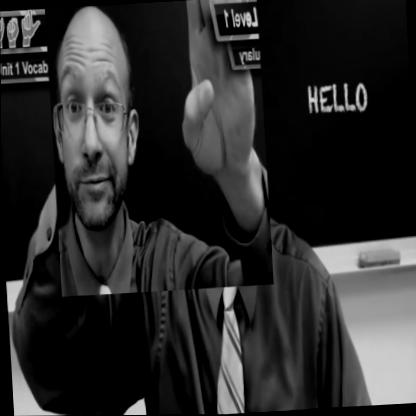Hello: (44, 0, 273, 297)
